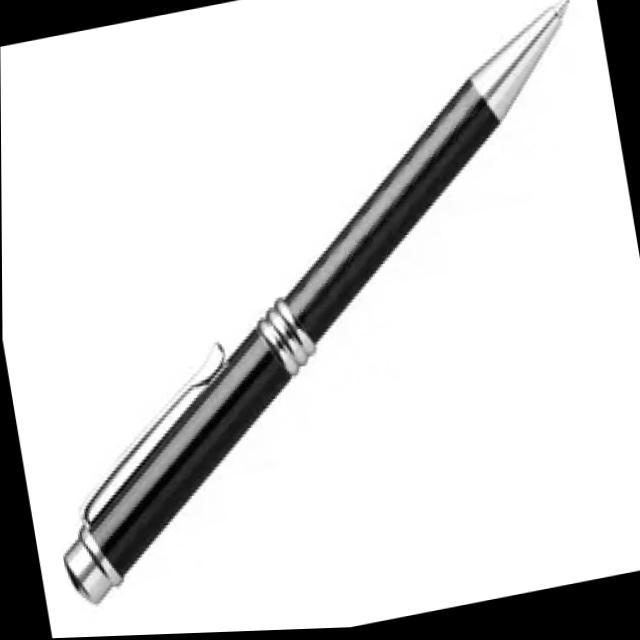pencil: (70, 0, 560, 617)
